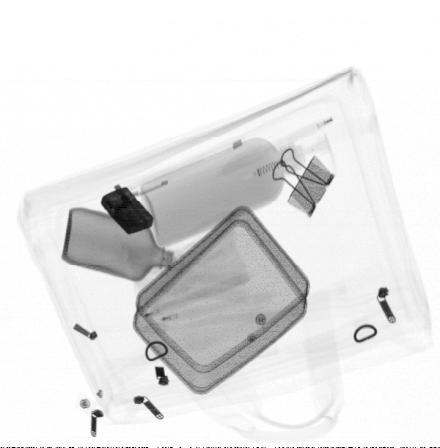Lighter: (101, 187, 154, 236)
